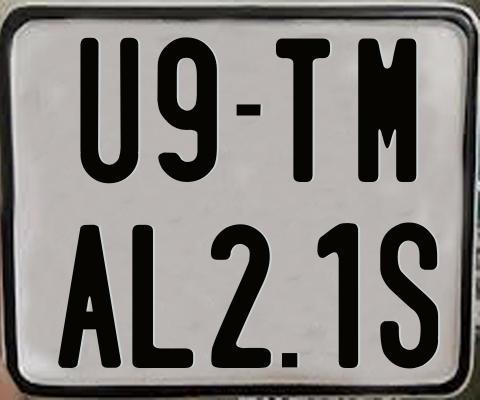1: (316, 223, 358, 373)
2: (211, 222, 274, 366)
9: (154, 36, 214, 182)
A: (57, 222, 125, 365)
L: (132, 222, 198, 369)
M: (358, 38, 418, 183)
S: (380, 221, 441, 369)
T: (275, 38, 329, 184)
U: (80, 37, 144, 183)
